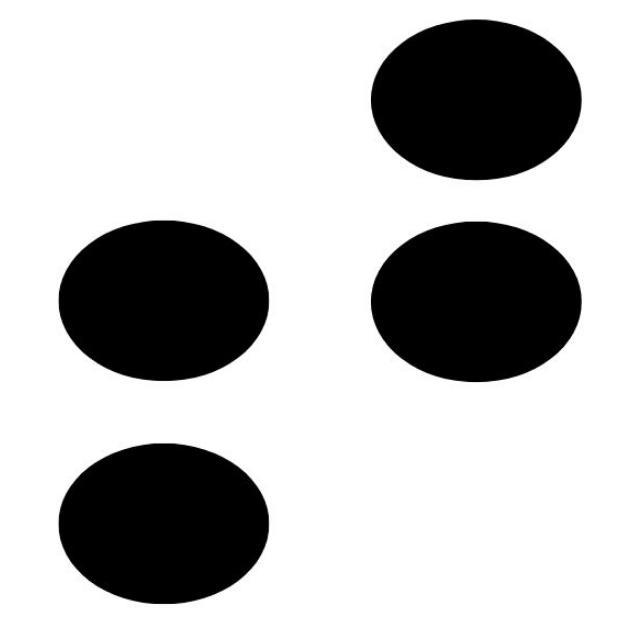letter_t: (59, 19, 581, 611)
